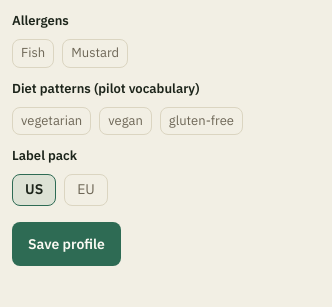
it: ProfileEditor (D-26 H1) › a rejected save surfaces the honest error (strict canonical validation)
Expected: the button "Fish" is shown, [12, 39, 54, 68]
Click the button "Save profile". click: (66, 244)
box: [12, 222, 121, 266]
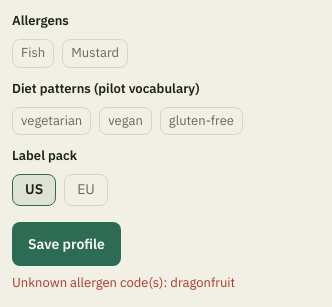
Expected: the text "Unknown allergen code(s): dragonfruit" is shown, [12, 274, 235, 291]
